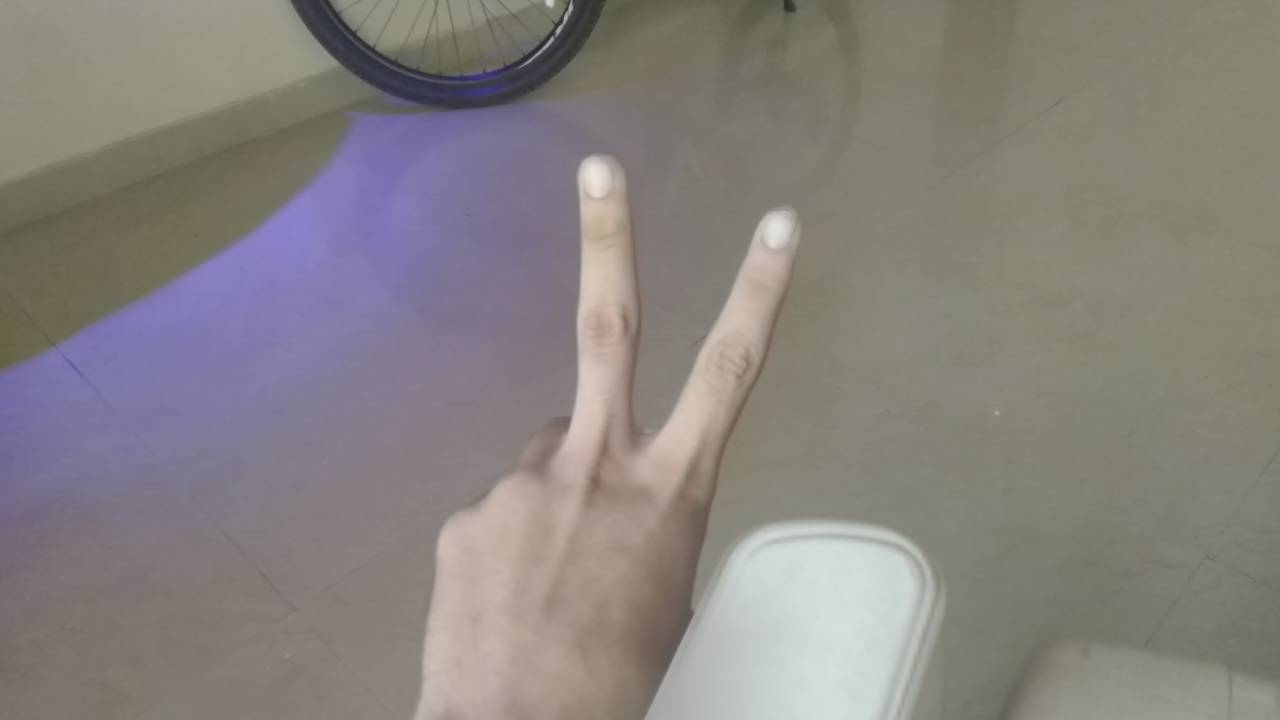fingertip: (566, 148, 636, 210), (746, 198, 812, 258)
